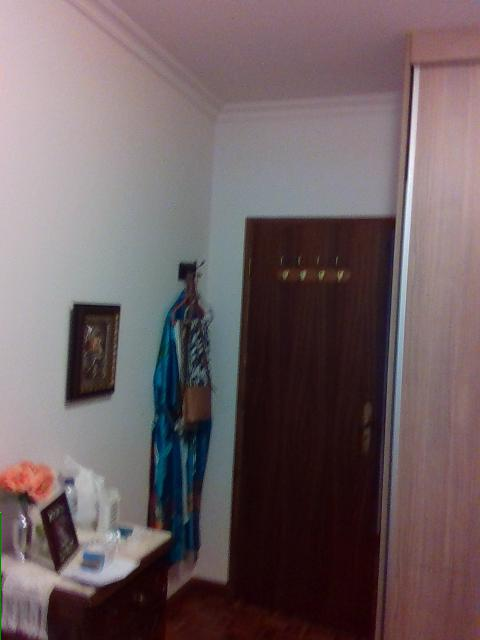door: (225, 215, 394, 626)
